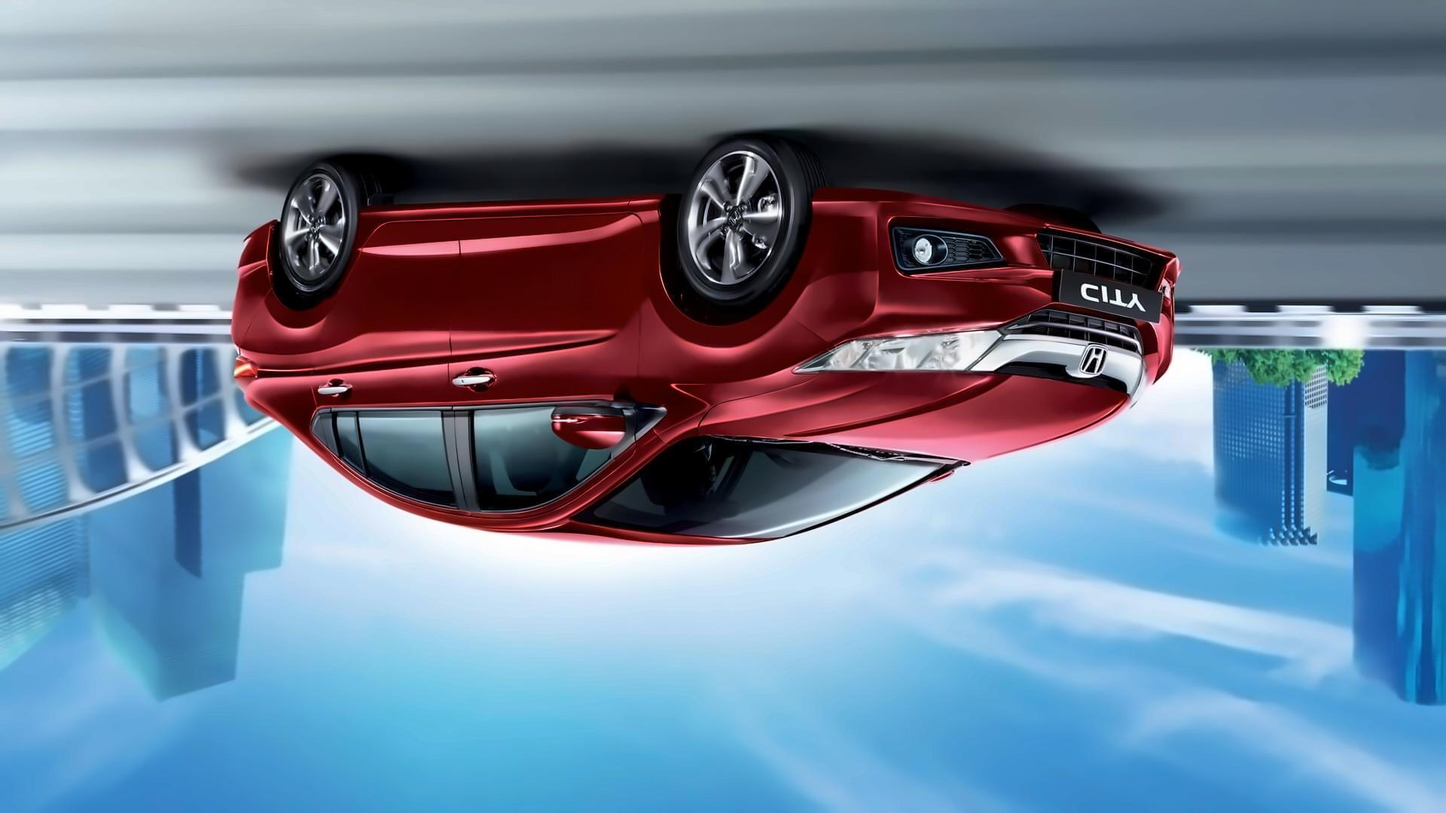Car hood: (692, 363, 1134, 467)
Fender - -F-L-: (625, 192, 833, 451)
Fender - -R-L-: (232, 215, 353, 449)
Front bumper: (773, 186, 1188, 399)
Headlight - -L-: (790, 329, 1004, 376)
Passenger-s door - -F-L-: (428, 176, 665, 537)
Passenger-s door - -R-L-: (296, 186, 482, 541)
Rear bumper: (225, 217, 285, 354)
Rear light - -L-: (227, 351, 261, 387)
Side bumper - -L-: (346, 178, 673, 275)
Side mirror - -L-: (547, 392, 648, 453)
